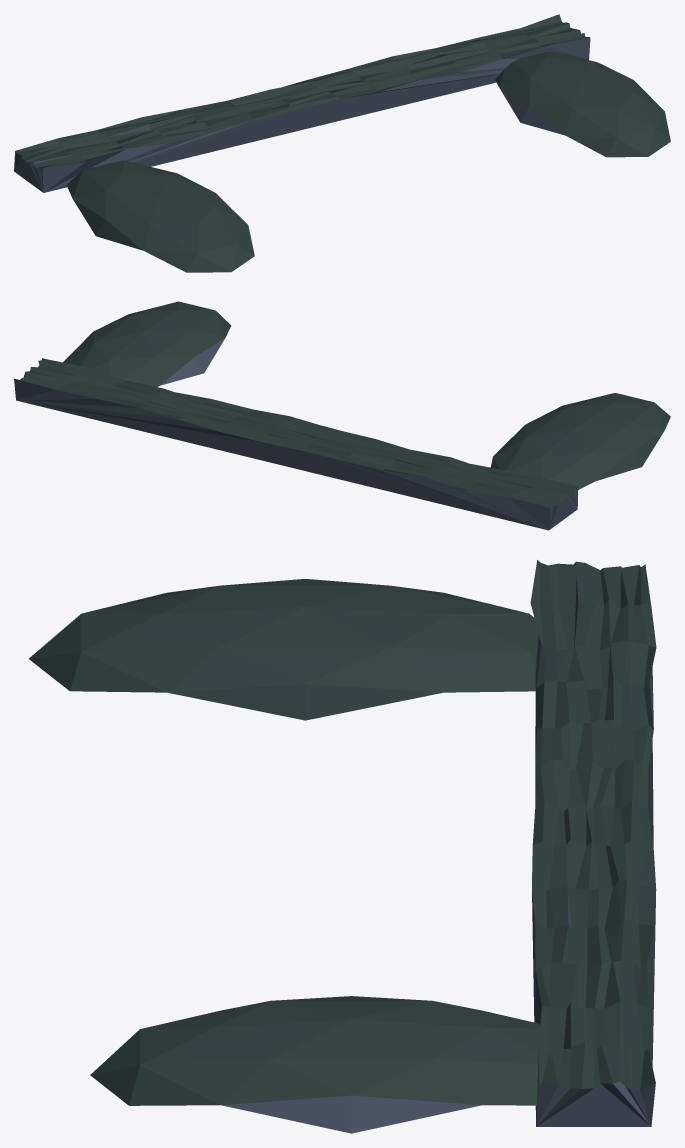
Rendered from bank.glb.
3 renders of one model, top to bottom at view 1: azimuth 30°, elevation 25°; view 2: azimuth 150°, elevation 25°; view 3: azimuth 270°, elevation 25°, orthographic. The views are drawn at different scales.
Visible parts, largest first — view 1: Bank; view 2: Bank; view 3: Bank.
Boxes of the visible parts, x1,y1,x2,y2 form: Bank: (14, 14, 670, 272); Bank: (14, 301, 670, 530); Bank: (29, 560, 656, 1133).
Size of the model in its own units: 16.4 by 0.8 by 8.16.
